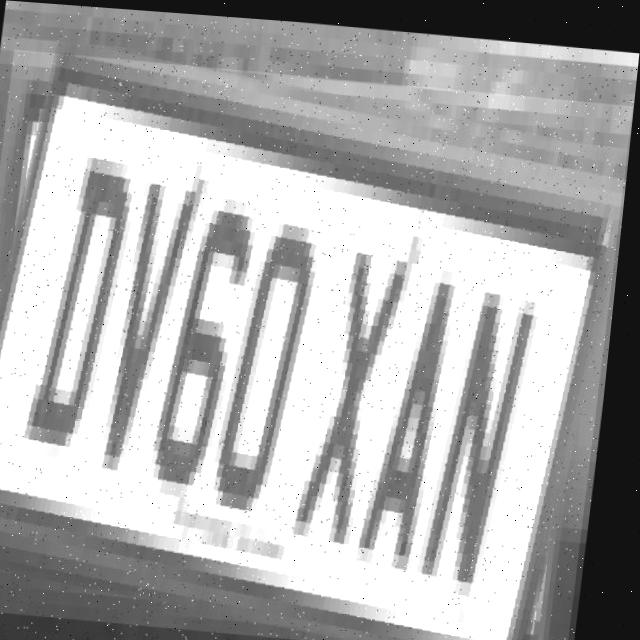LicensePlate: (0, 49, 635, 640)
